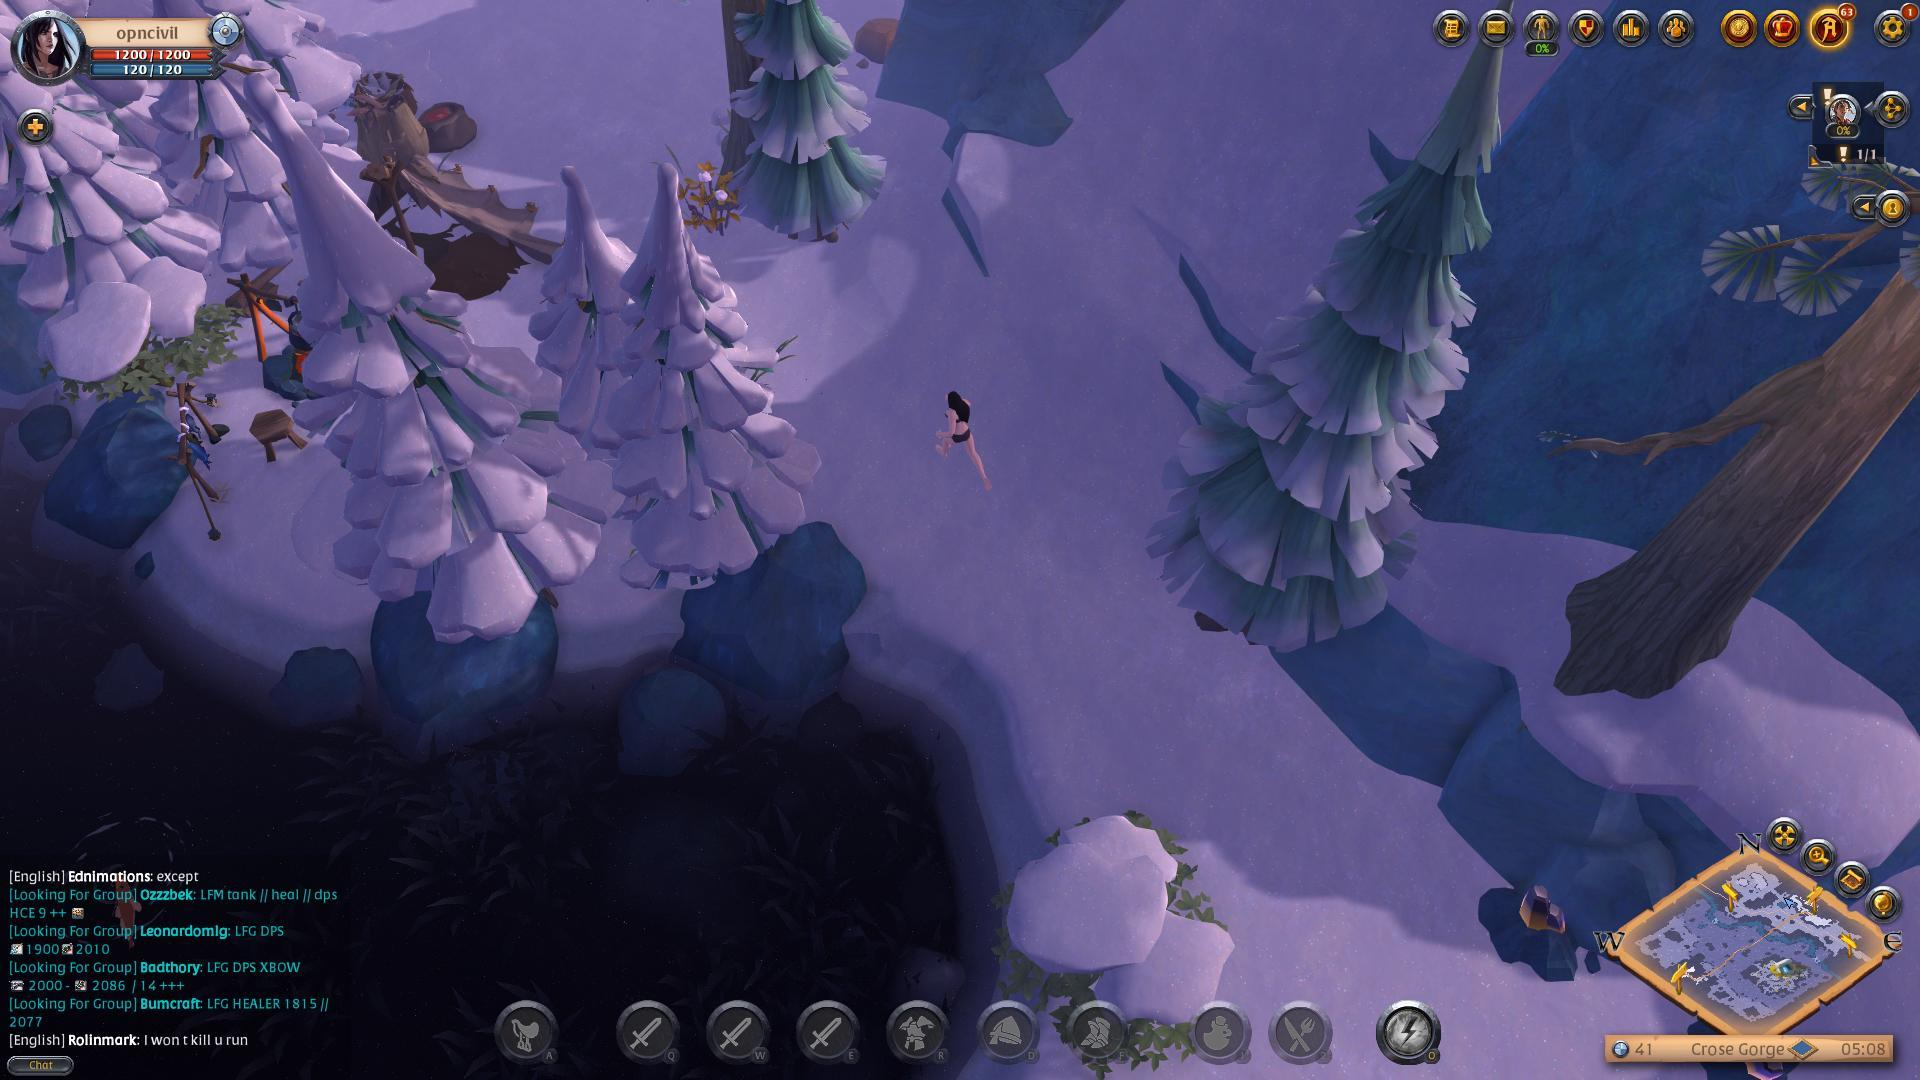copper_ore: (1470, 869, 1592, 994)
cotton: (675, 166, 744, 239)
